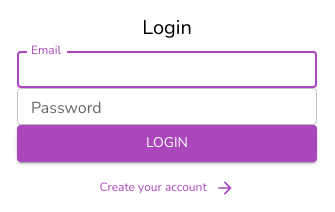
Login Form › should check email and password values. Also Loading... as button text after submit the form
The image size is (335, 212).
Type "john.dee@someemail.com" into the field labelled "Email" at coordinates (167, 70), box [17,51,317,88]
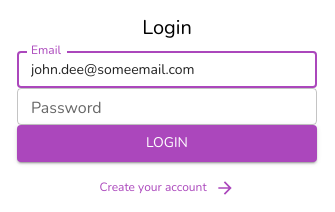
Type "Dee123456" into the password field labelled "Password" at coordinates (167, 107), box [17,88,317,125]
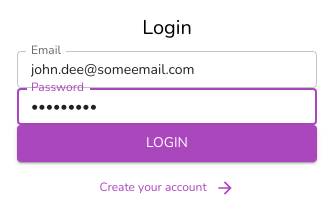
Click the button "login" at coordinates (167, 144), box [17,125,317,162]
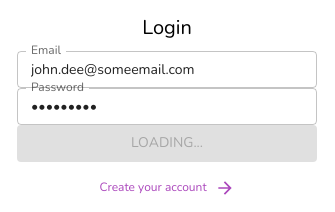
Check: the button "Loading..." is shown, box [17,125,317,162]
